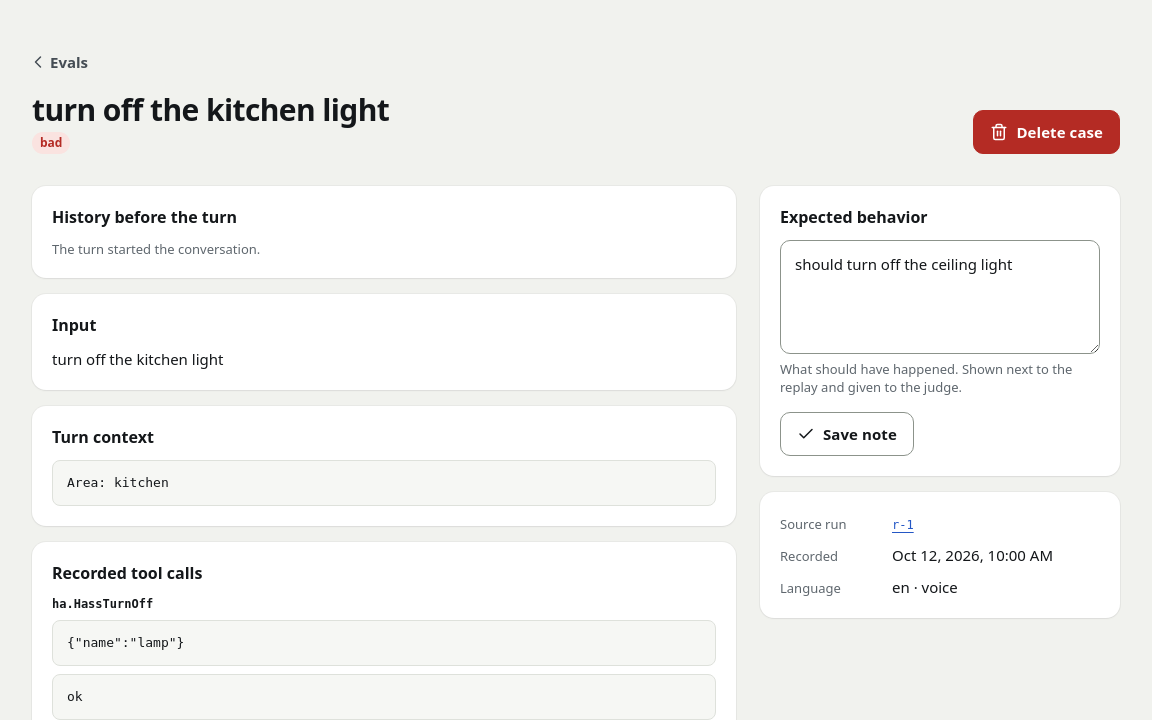
Test case: EvalCaseView › shows the recorded turn and edits the note
Expected: the text with test id "input" reads "turn off the kitchen light", [52,349,223,369]
Expected: the element with test id "tool-call" shows "ha.HassTurnOff", [52,597,153,611]
Replace the text in the text box named "note" with "ceiling light, not the lamp": (940, 297) [780,240,1100,354]
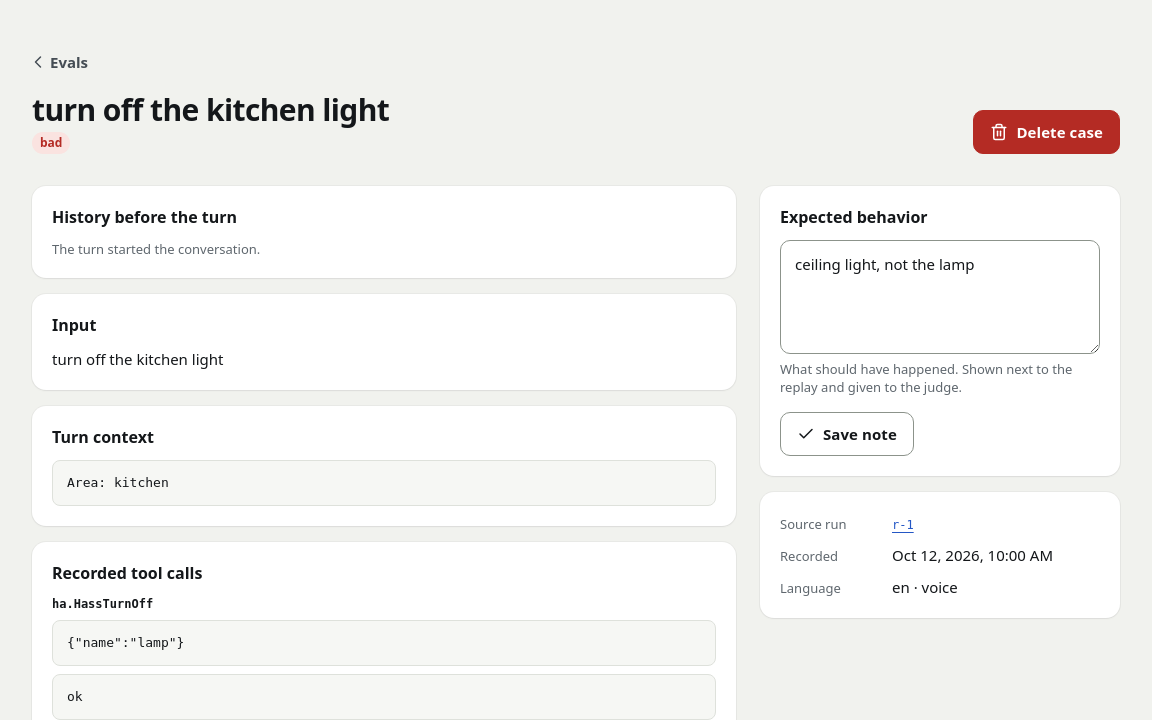
Submit the form, box [780,240,1100,456]
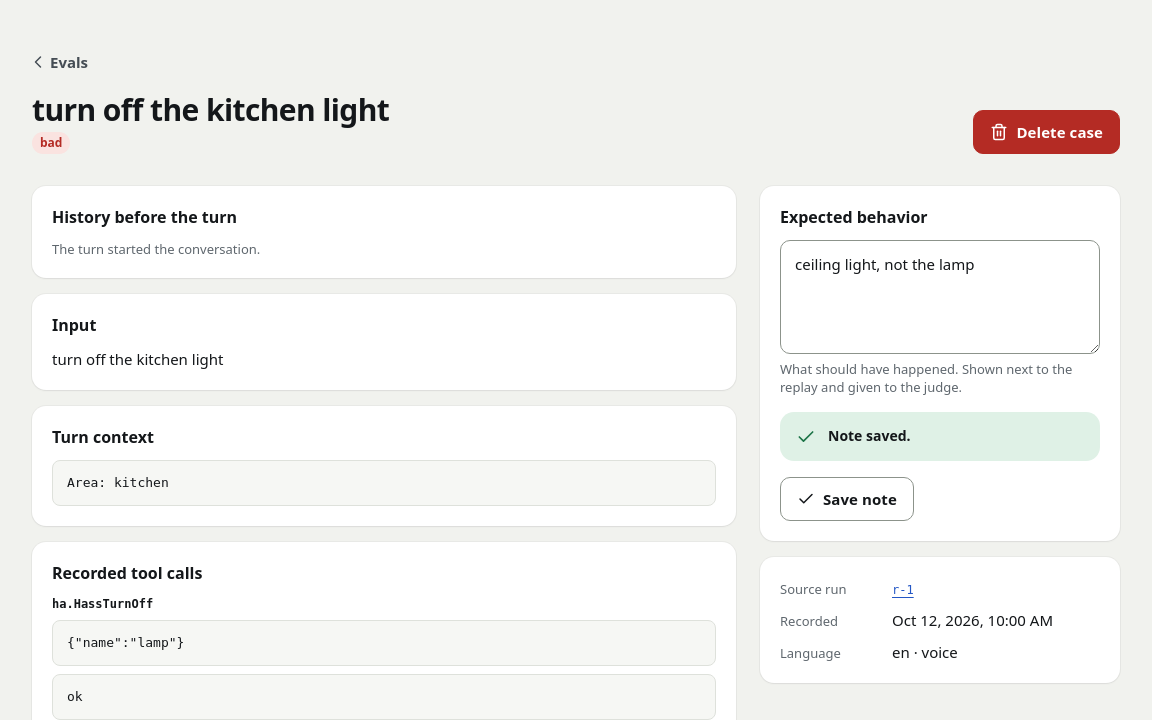
Expected: the message "Note saved." is shown, [780,412,1100,461]
